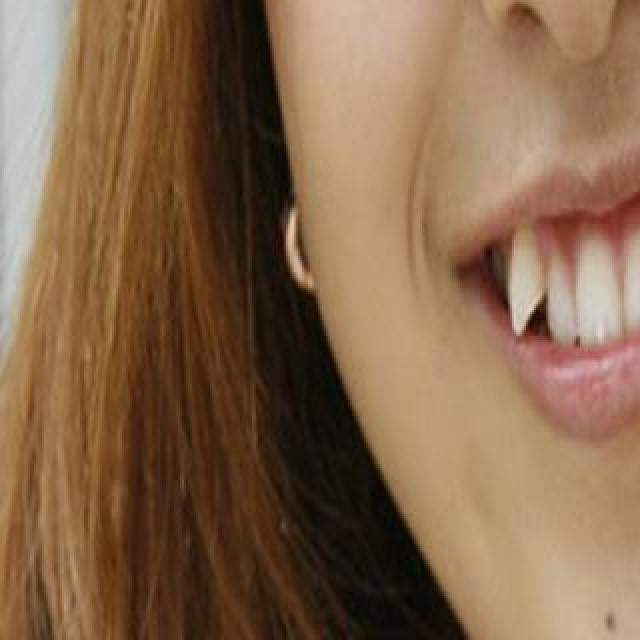maligned: (483, 210, 561, 354)
